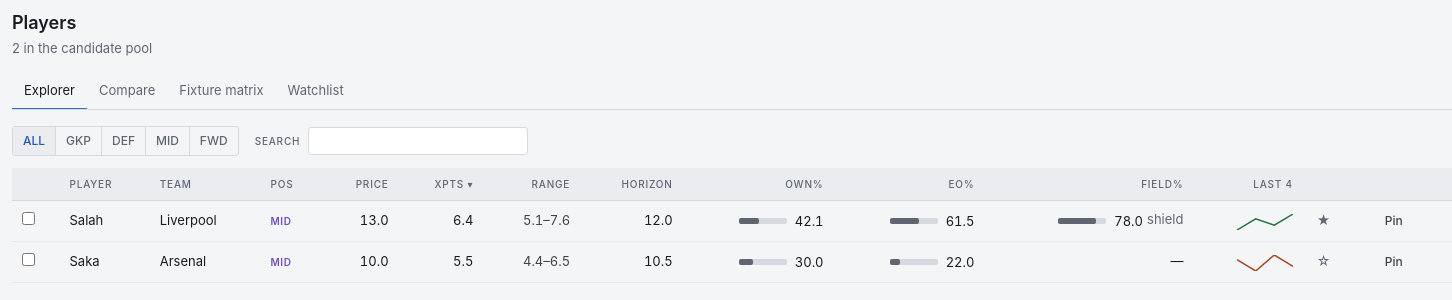
the watchlist star › reverts only the star that failed, not one that landed meanwhile
The image size is (1452, 300).
Click the button named "unstar Salah": (1324, 221) 1313,211 -> 1334,230
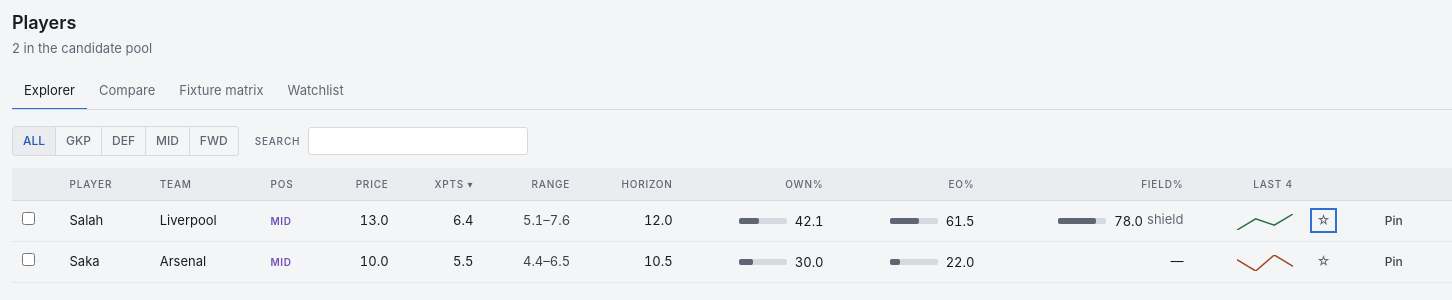
Click the button named "star Saka": (1324, 262) 1313,252 -> 1334,271
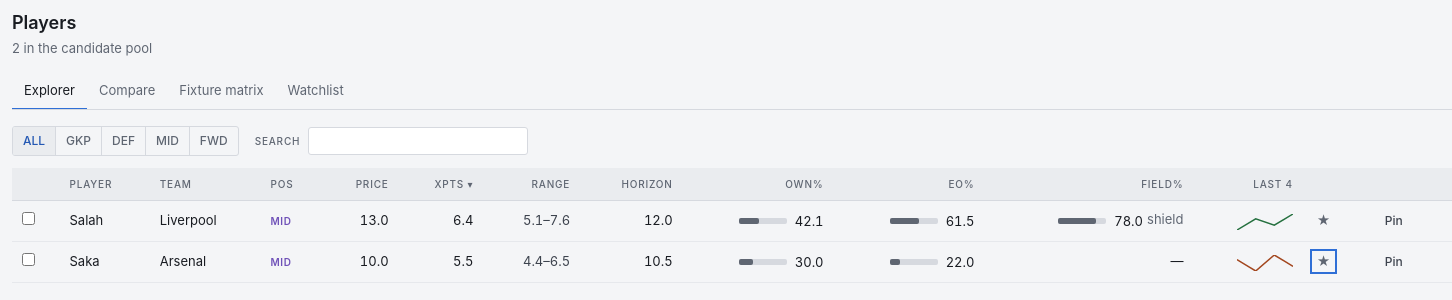
expect the button named "unstar Salah" is shown: met, box 1313,211 -> 1334,230
expect the button named "unstar Saka" is shown: met, box 1313,252 -> 1334,271
